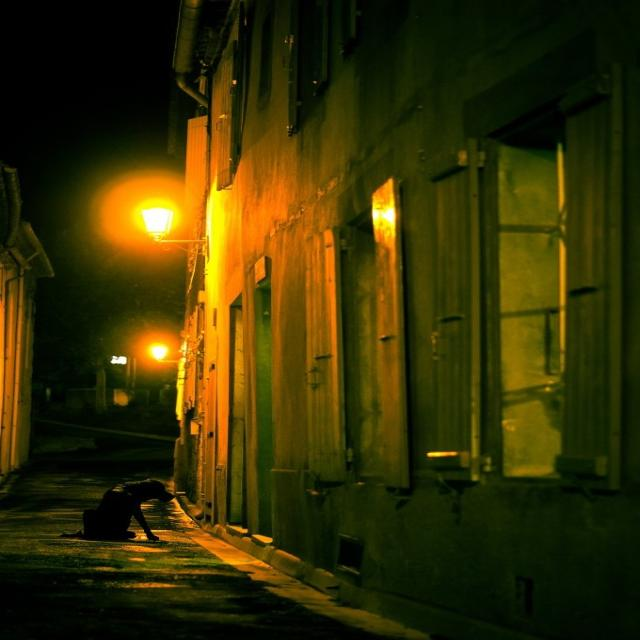dog: (93, 460, 189, 563)
